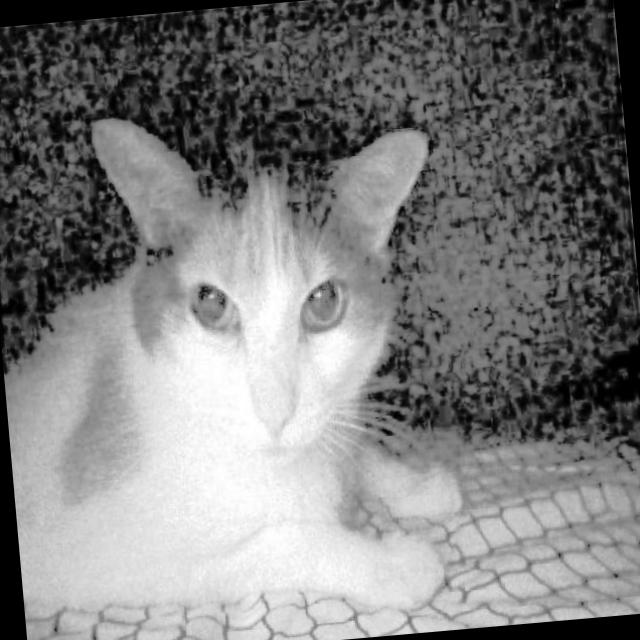Cat: (0, 73, 491, 640)
